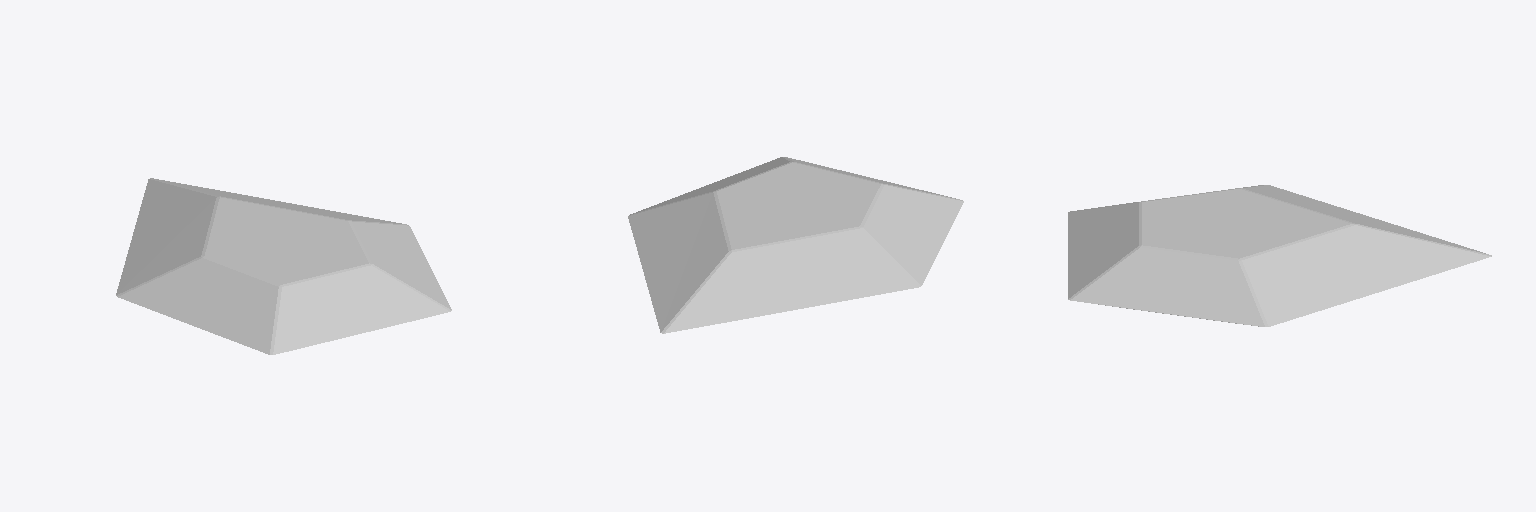
File: gem-5-long.obj
The picture shows the model from 3 angles: view 1: azimuth 30°, elevation 25°; view 2: azimuth 150°, elevation 25°; view 3: azimuth 270°, elevation 25°; orthographic projection.
Parts seen in each view (by area): view 1: gem_Cylinder; view 2: gem_Cylinder; view 3: gem_Cylinder.
Part boxes in pixels (bbox=[...]): gem_Cylinder: bbox=[116, 178, 451, 354]; gem_Cylinder: bbox=[628, 157, 963, 333]; gem_Cylinder: bbox=[1068, 185, 1491, 326].
Bounding box in the file's own units: 18.95 × 4 × 23.78.